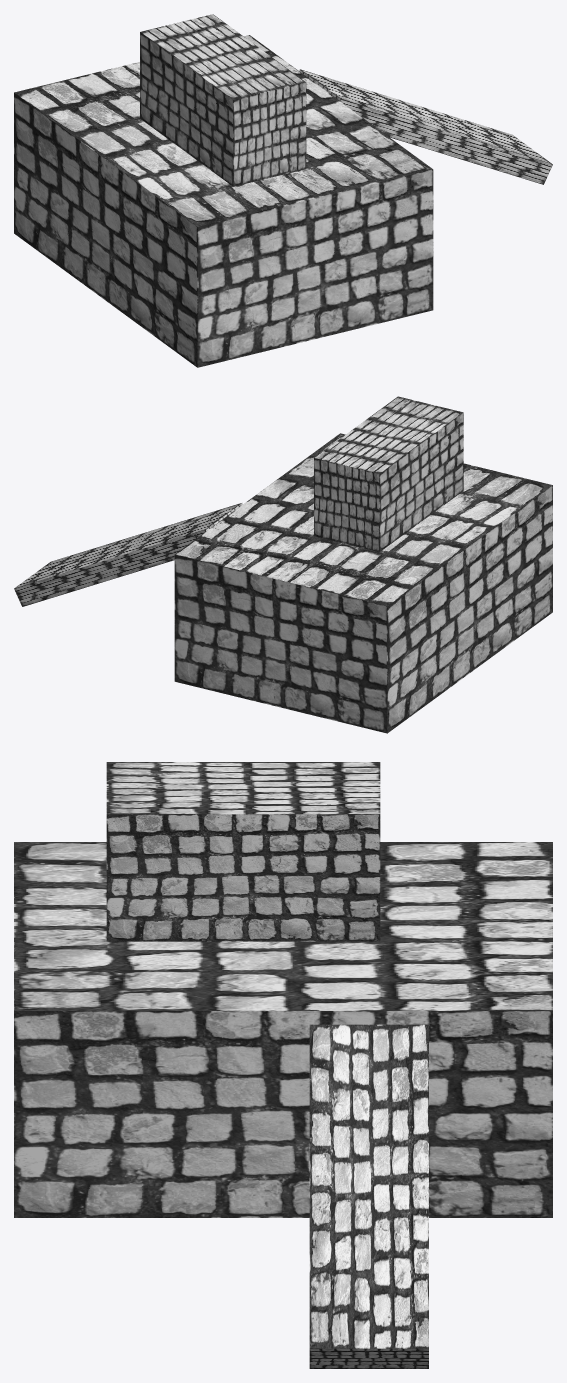
File: hako.fbx
3 views of the same model, one above another, from view 1: azimuth 30°, elevation 25°; view 2: azimuth 150°, elevation 25°; view 3: azimuth 270°, elevation 25° (orthographic). The views are drawn at different scales.
Parts seen in each view (by area): view 1: Box001, Box002, Box; view 2: Box001, Box002, Box; view 3: Box001, Box002, Box.
Part boxes in pixels (bbox=[...]): Box001: bbox=[14, 35, 433, 367]; Box002: bbox=[140, 14, 306, 186]; Box: bbox=[299, 69, 552, 184]; Box001: bbox=[174, 433, 552, 733]; Box002: bbox=[314, 396, 463, 552]; Box: bbox=[14, 503, 242, 606]; Box001: bbox=[14, 842, 552, 1217]; Box002: bbox=[106, 762, 380, 941]; Box: bbox=[309, 1024, 428, 1368].
Bounding box in the file's own units: 967 × 674 × 462.
1 material, 1 textured.
